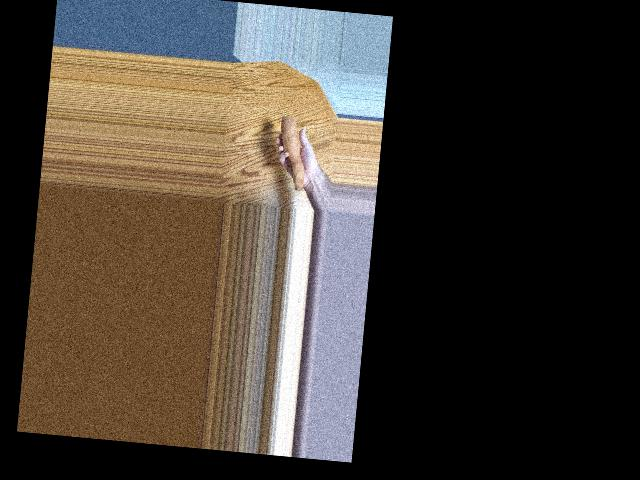sweet_potato: (271, 114, 310, 199)
